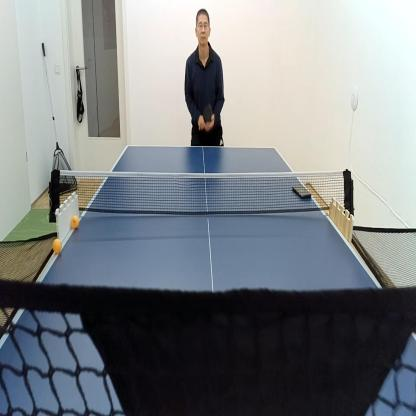Ball: (51, 240, 62, 254), (72, 215, 79, 228)
